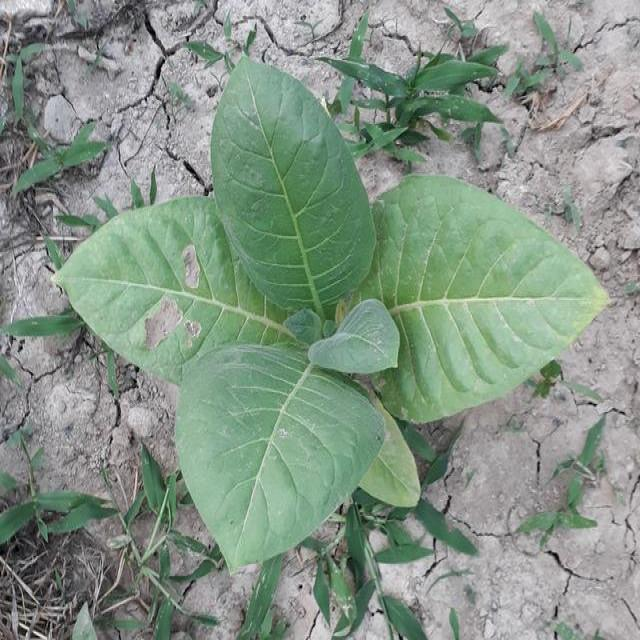crop: (49, 58, 606, 571)
